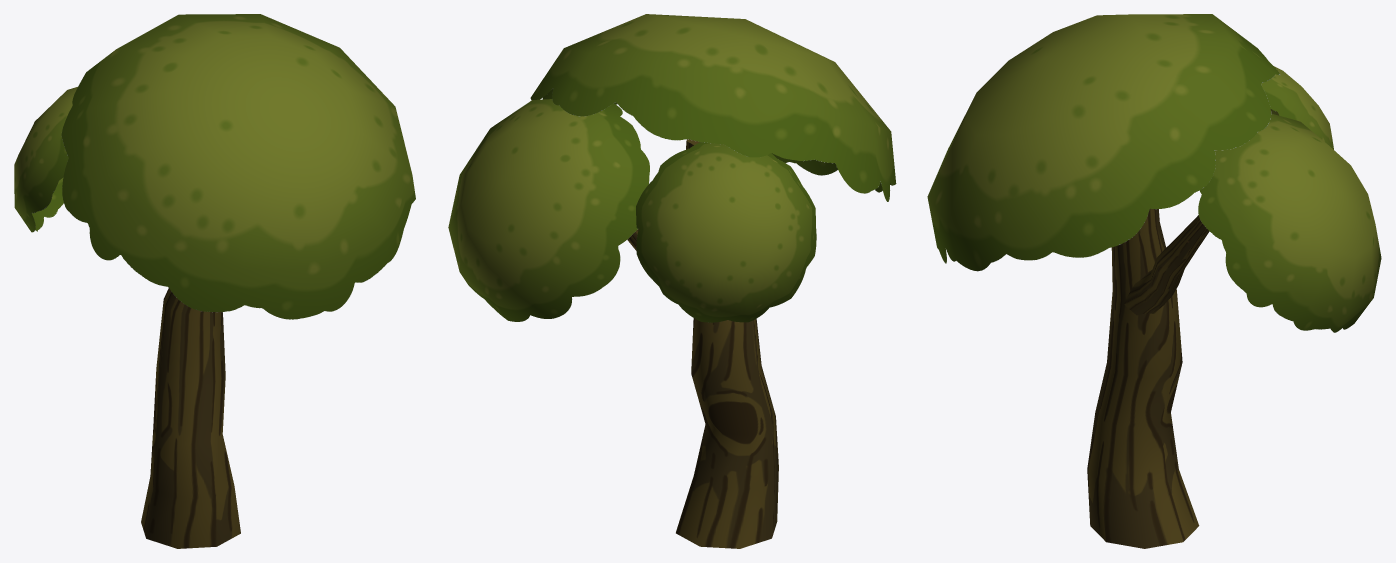
The model's file is BG2Boss-6.fbx.
The picture shows the model from 3 angles, left to right: view 1: azimuth 30°, elevation 25°; view 2: azimuth 150°, elevation 25°; view 3: azimuth 270°, elevation 25°; orthographic projection. The views are drawn at different scales.
Visible parts, largest first — view 1: Cylinder001, Cylinder005, Cylinder011; view 2: Cylinder001, Cylinder010, Cylinder011, Cylinder005; view 3: Cylinder001, Cylinder010, Cylinder005, Cylinder006, Cylinder011.
Boxes of the visible parts, x1=… form: Cylinder001: x1=61, y1=14, x2=415, y2=319; Cylinder005: x1=141, y1=288, x2=240, y2=548; Cylinder011: x1=14, y1=87, x2=77, y2=232; Cylinder001: x1=530, y1=14, x2=896, y2=201; Cylinder010: x1=448, y1=99, x2=649, y2=321; Cylinder011: x1=636, y1=142, x2=816, y2=322; Cylinder005: x1=676, y1=139, x2=778, y2=548; Cylinder001: x1=927, y1=14, x2=1280, y2=271; Cylinder010: x1=1198, y1=113, x2=1381, y2=332; Cylinder005: x1=1087, y1=208, x2=1199, y2=548; Cylinder006: x1=1124, y1=215, x2=1209, y2=315; Cylinder011: x1=1261, y1=66, x2=1333, y2=149.
Size of the model in its own units: 141 by 193 by 155.
Materials: 1 (1 with a texture image).
